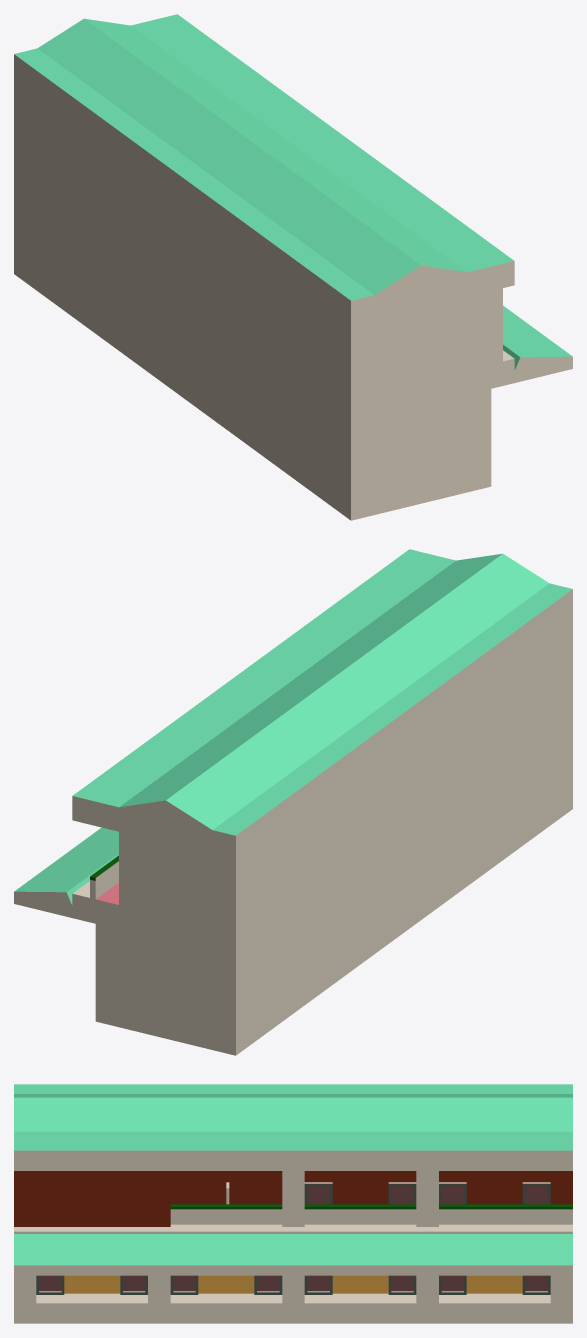
3 renders of one model, top to bottom at view 1: azimuth 30°, elevation 25°; view 2: azimuth 150°, elevation 25°; view 3: azimuth 270°, elevation 25°, orthographic. The views are drawn at different scales.
Visible parts, largest first — view 1: Cube; view 2: Cube; view 3: Cube.
Part boxes in pixels (box(x1,y1,x2,y2)): Cube: box(14, 14, 572, 520); Cube: box(14, 549, 572, 1055); Cube: box(14, 1084, 572, 1323).
Bounding box in the file's own units: 1900 × 1950 × 5000.
